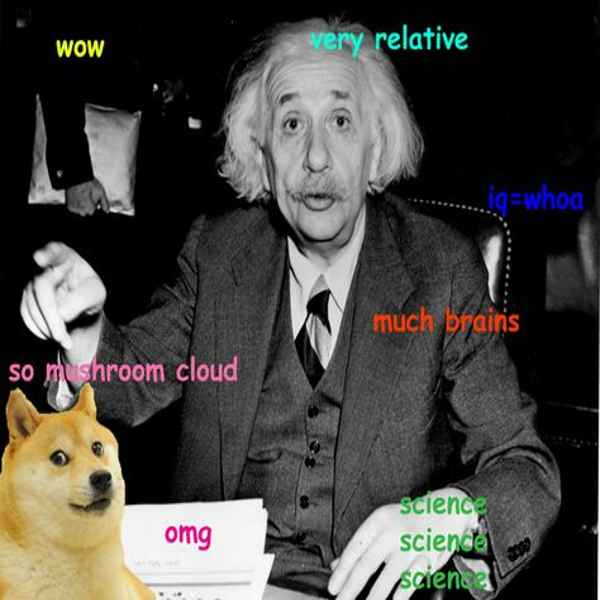doge: (6, 383, 134, 534)
